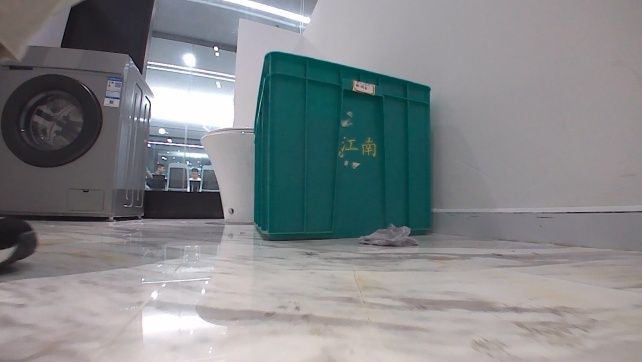socks: (356, 220, 424, 248)
toilet: (195, 125, 256, 224)
washing_machine: (0, 42, 155, 225)
